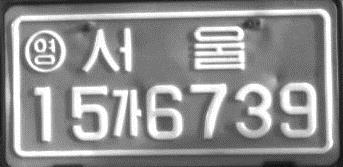1: (29, 83, 58, 144)
3: (234, 81, 273, 140)
5: (69, 83, 109, 142)
6: (144, 82, 185, 143)
7: (187, 81, 232, 142)
9: (276, 81, 318, 141)
가: (108, 87, 142, 138)
서울_D: (78, 22, 249, 76)
영: (24, 28, 67, 72)
